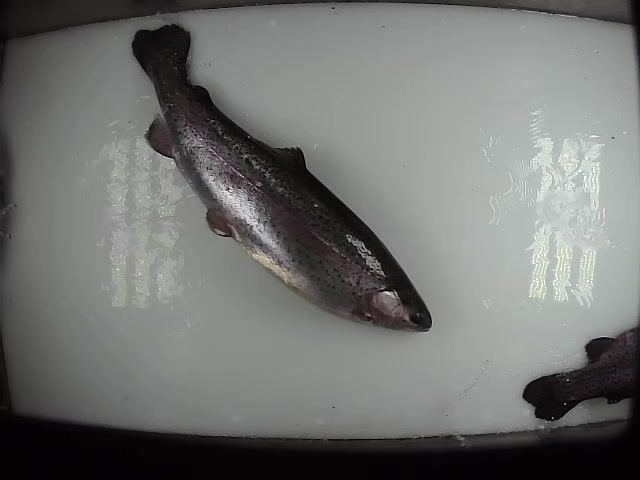Fish: (132, 25, 432, 333)
